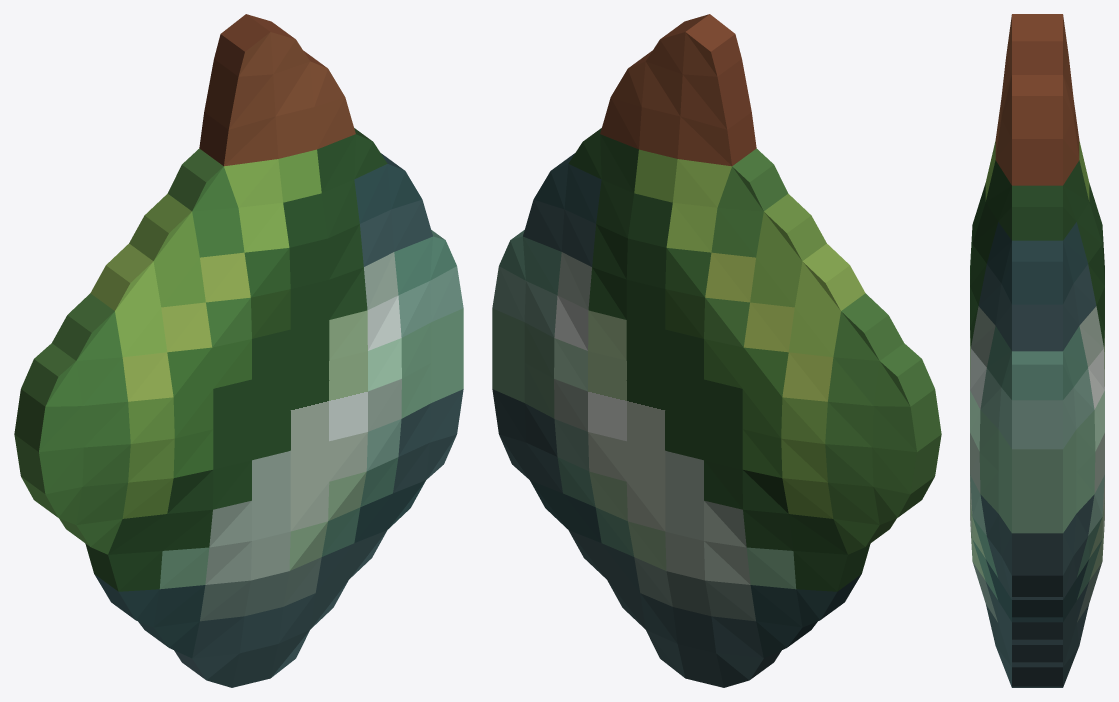
The model's file is cocoon.glb.
The picture shows the model from 3 angles, left to right: view 1: azimuth 30°, elevation 25°; view 2: azimuth 150°, elevation 25°; view 3: azimuth 270°, elevation 25°; orthographic projection. The views are drawn at different scales.
Parts seen in each view (by area): view 1: cocoon; view 2: cocoon; view 3: cocoon.
Boxes of the visible parts, bbox=[...] form: cocoon: bbox=[14, 14, 463, 687]; cocoon: bbox=[492, 14, 941, 687]; cocoon: bbox=[970, 14, 1104, 687].
Bounding box in the file's own units: 0.6875 × 1 × 0.1813.
Materials: 1 (1 with a texture image).
